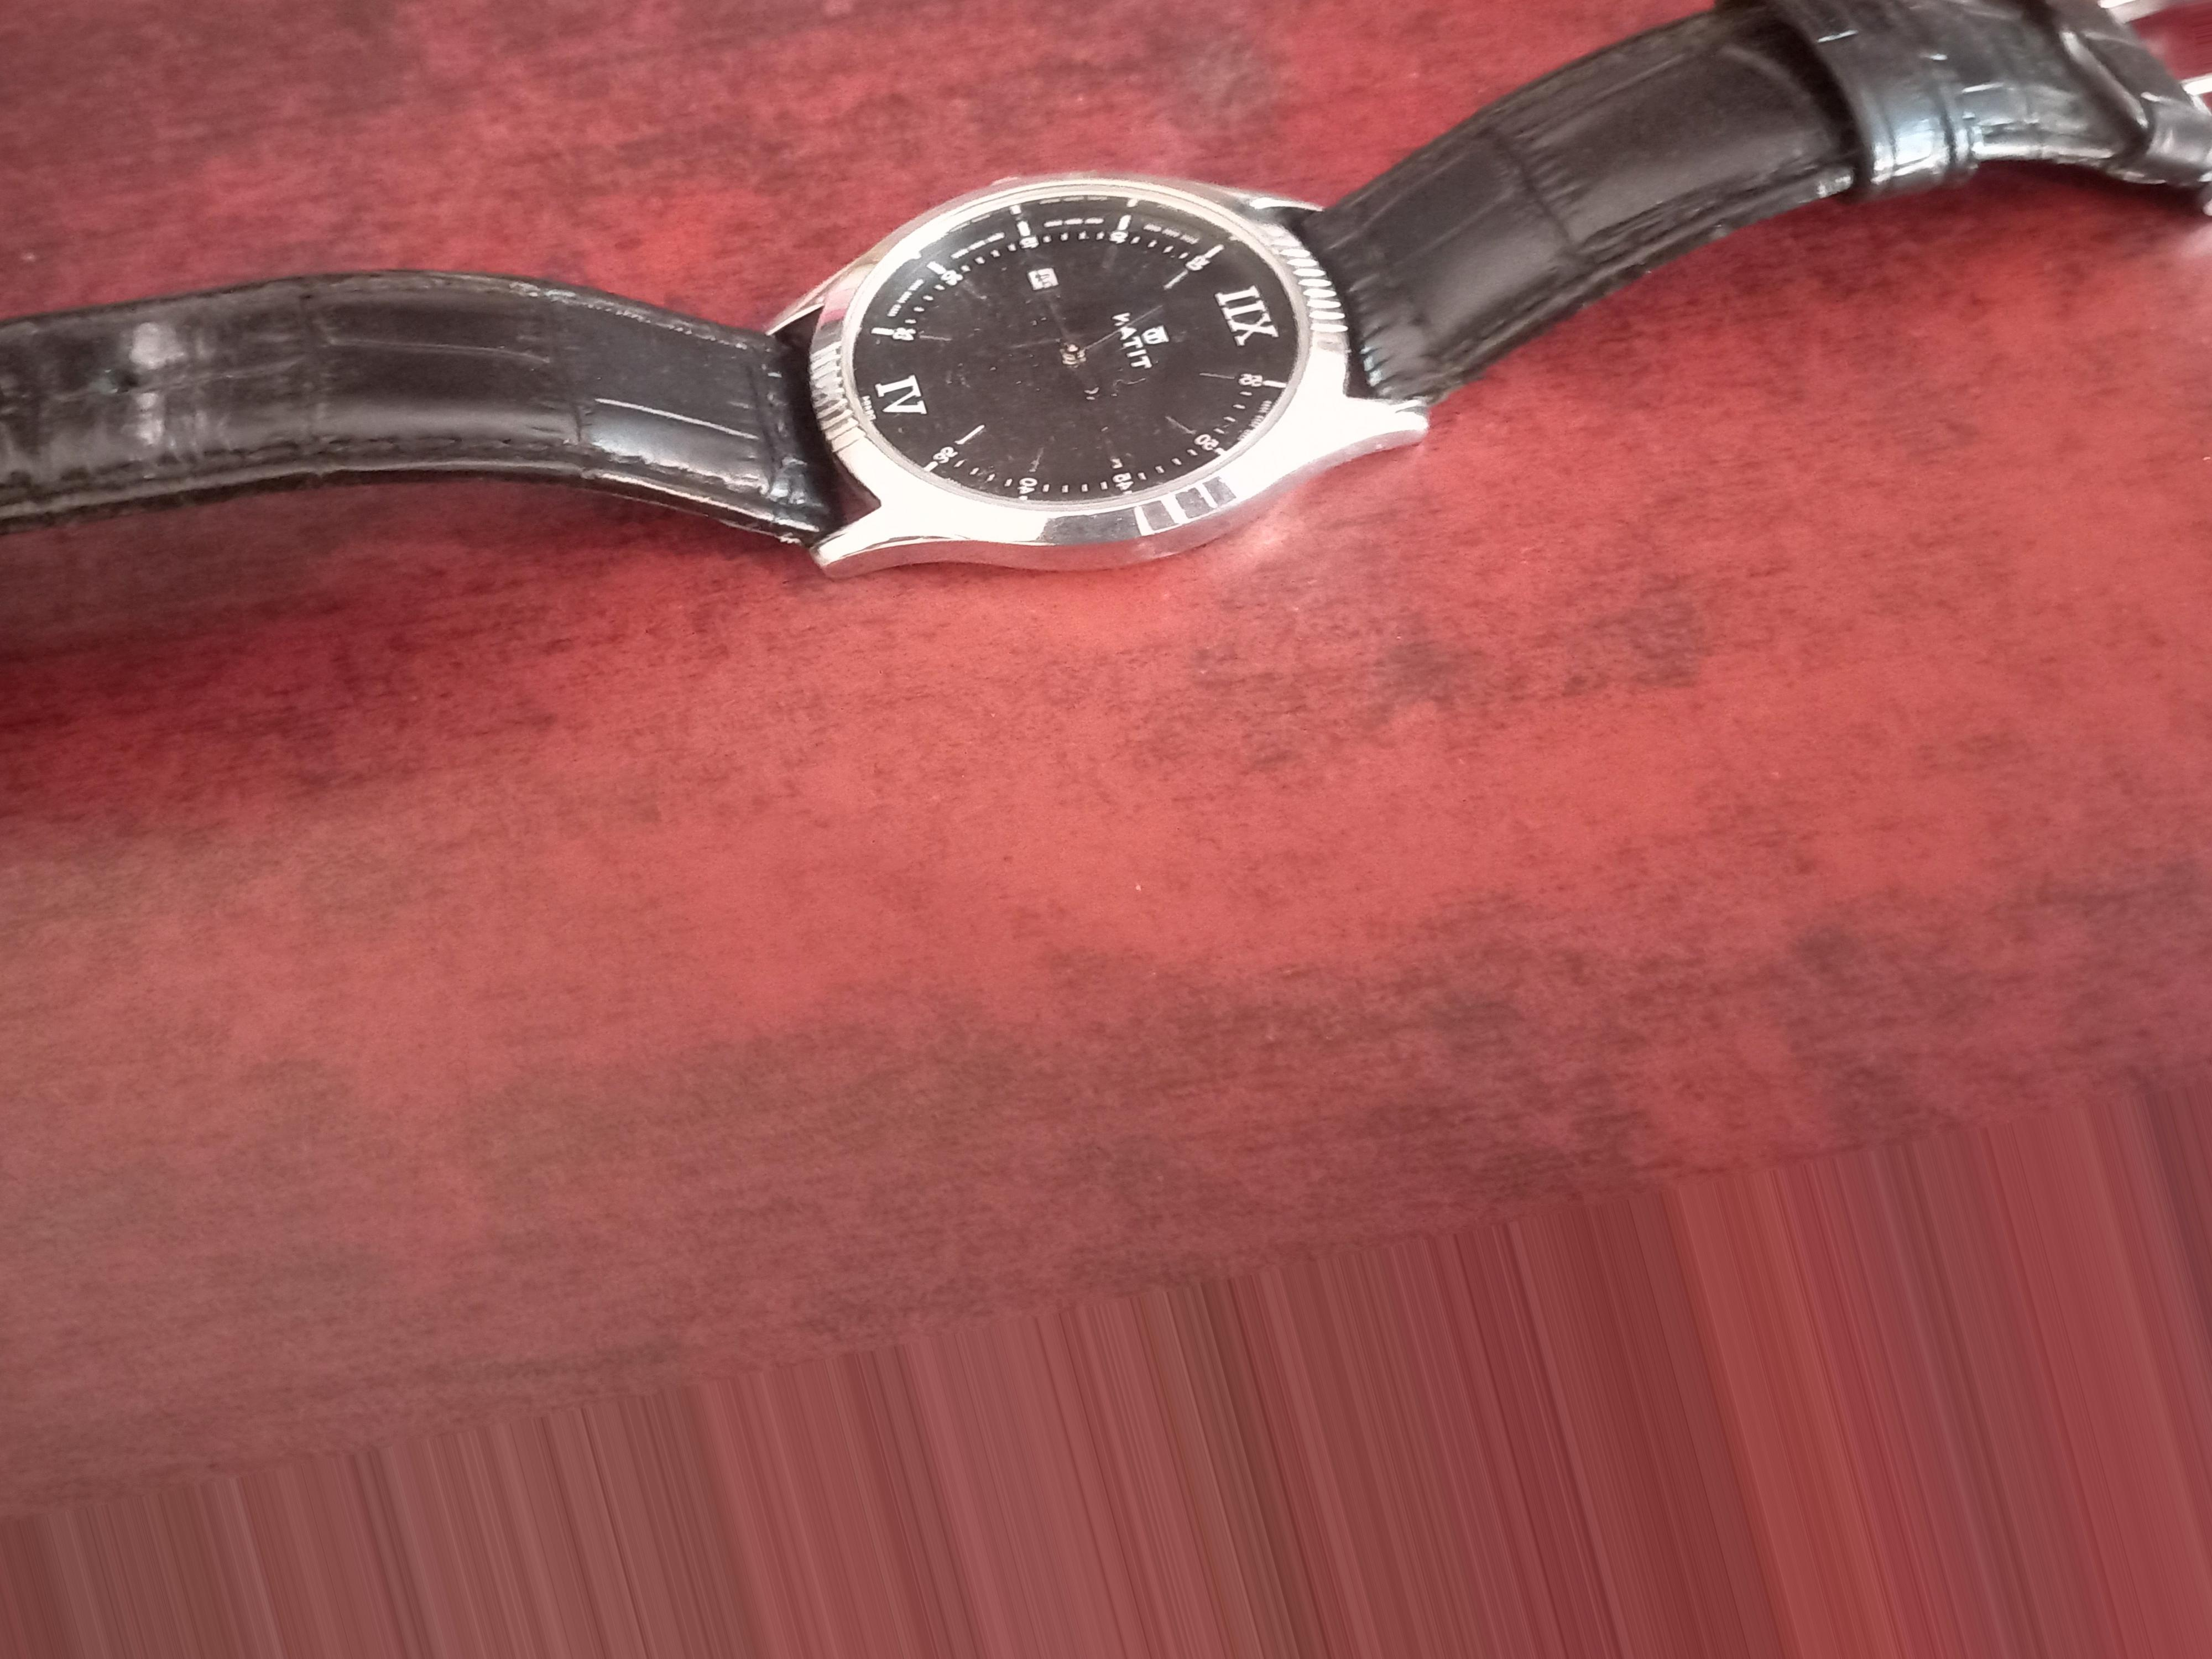watch: (3, 68, 2191, 648)
